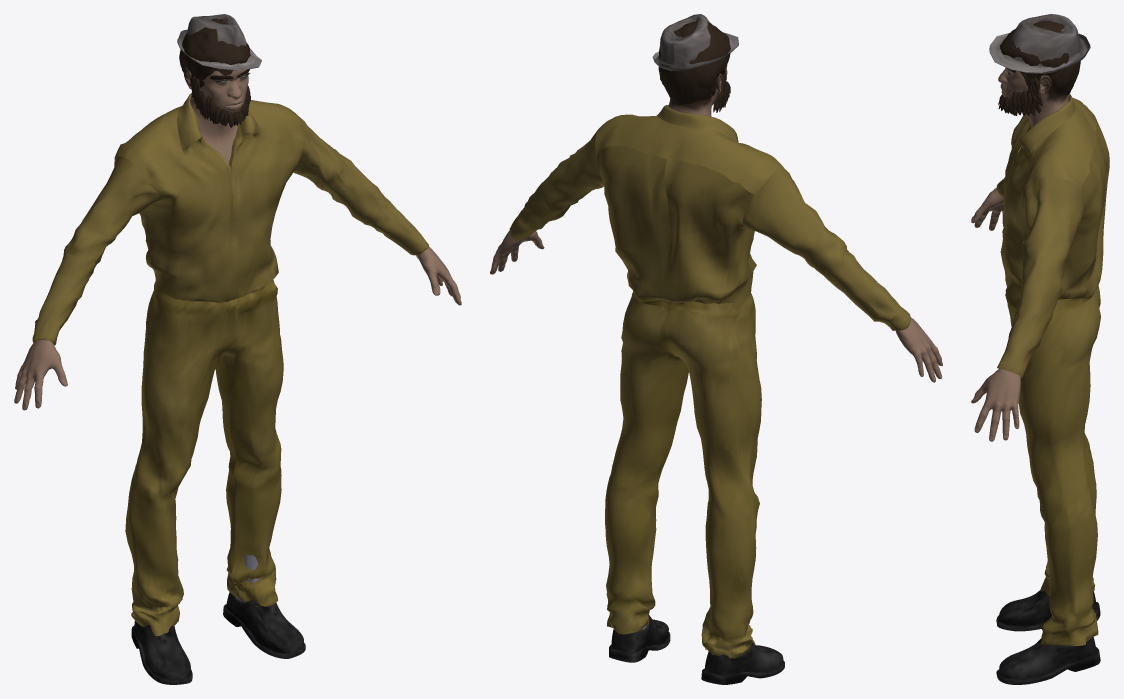
File: 0002-People-cast-cooked-mh-45.glb
3 renders of one model, left to right at view 1: azimuth 30°, elevation 25°; view 2: azimuth 150°, elevation 25°; view 3: azimuth 270°, elevation 25°, orthographic.
Visible parts, largest first — view 1: People: cast (cooked)/mh_45; view 2: People: cast (cooked)/mh_45; view 3: People: cast (cooked)/mh_45.
Boxes of the visible parts, box(x1,y1,x2,y2) form: People: cast (cooked)/mh_45: box(14, 14, 461, 684); People: cast (cooked)/mh_45: box(490, 14, 942, 684); People: cast (cooked)/mh_45: box(971, 14, 1109, 684).
Size of the model in its own units: 1.4 by 1.94 by 0.3854.
